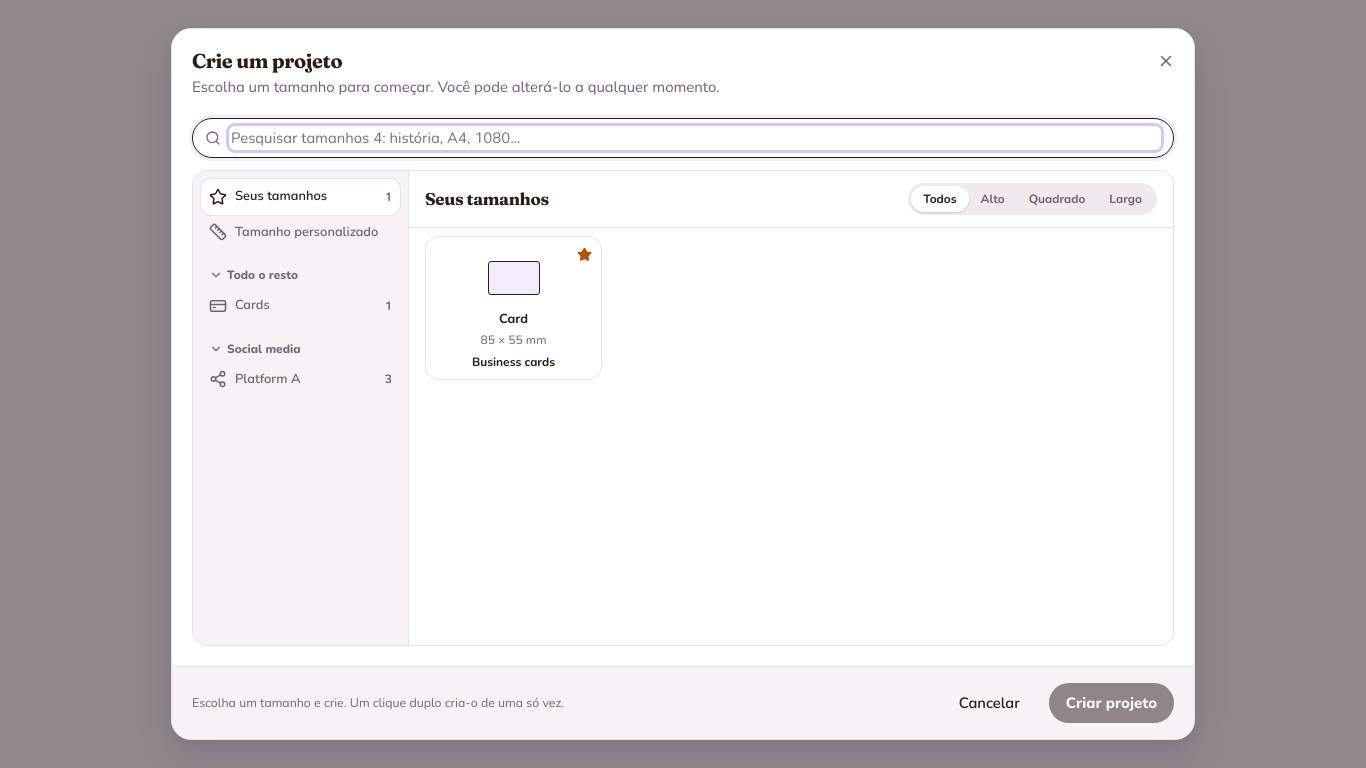
Scenario: Create a design dialog › shows a format under its sub-group headings, and a platform with its ads last
This screenshot has width=1366, height=768.
Click the button "Cards 1". click: (300, 306)
box: [201,288,400,324]
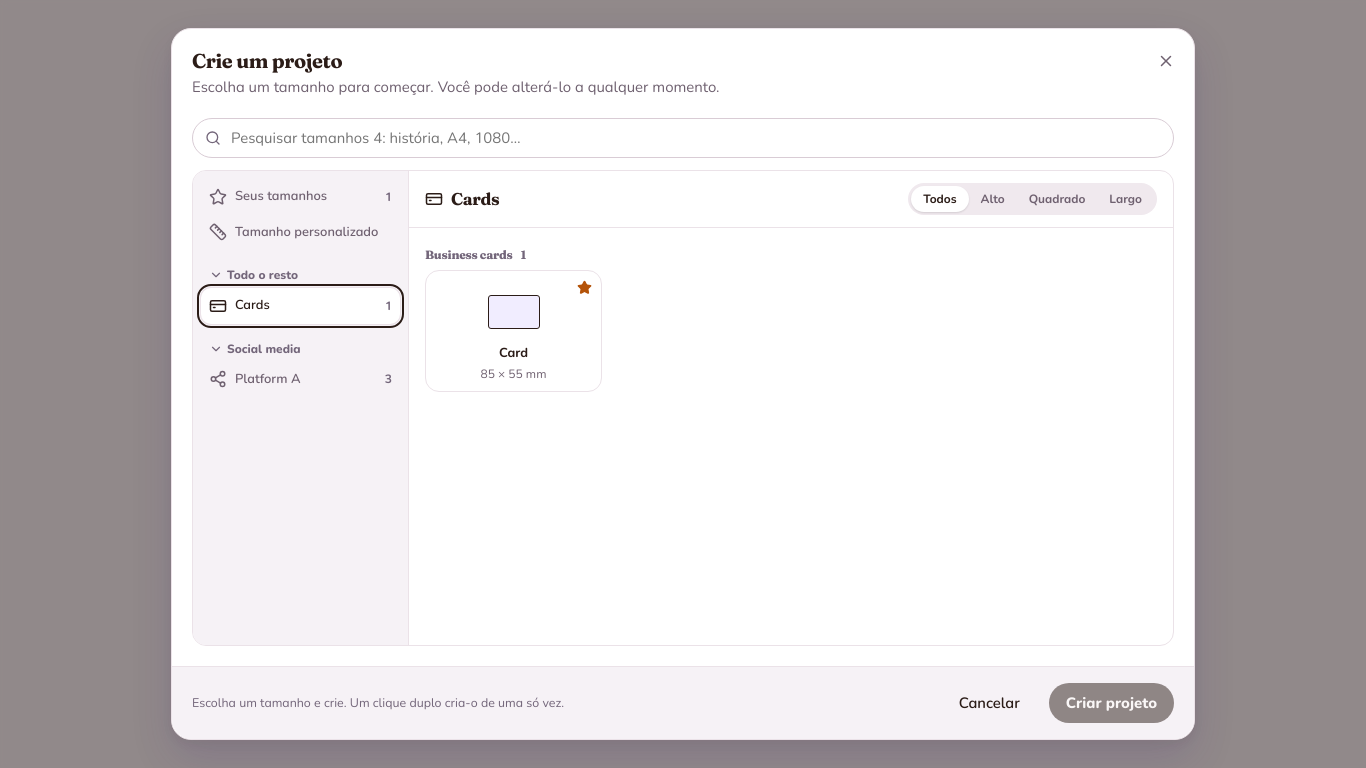
Expected: the button "Card 85 × 55 mm" is shown, [425,270,602,392]
Expected: the heading "Business cards 1" is shown, [425,247,526,262]
Click the button "Platform A 3". click: (300, 379)
box: [201,362,400,397]
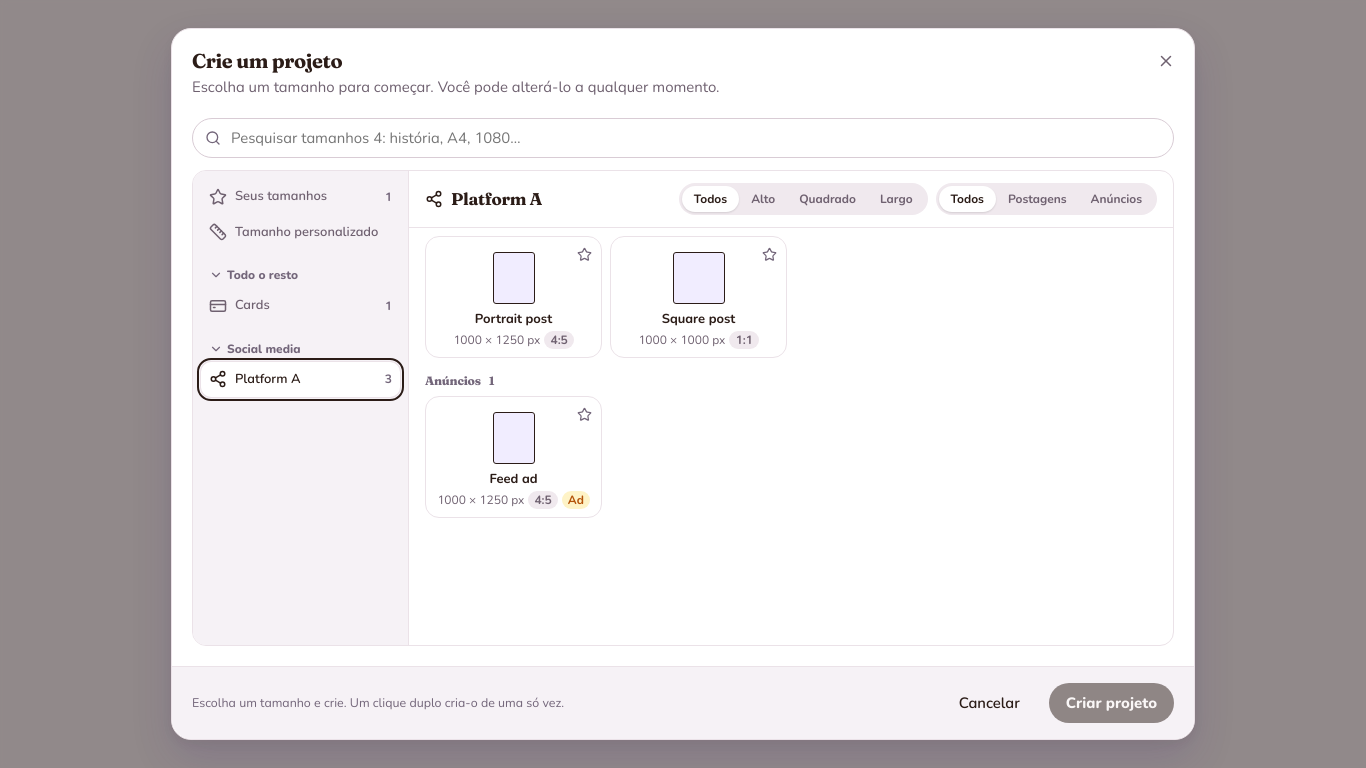
Expected: the heading "Anúncios 1" is shown, [425,373,494,388]
